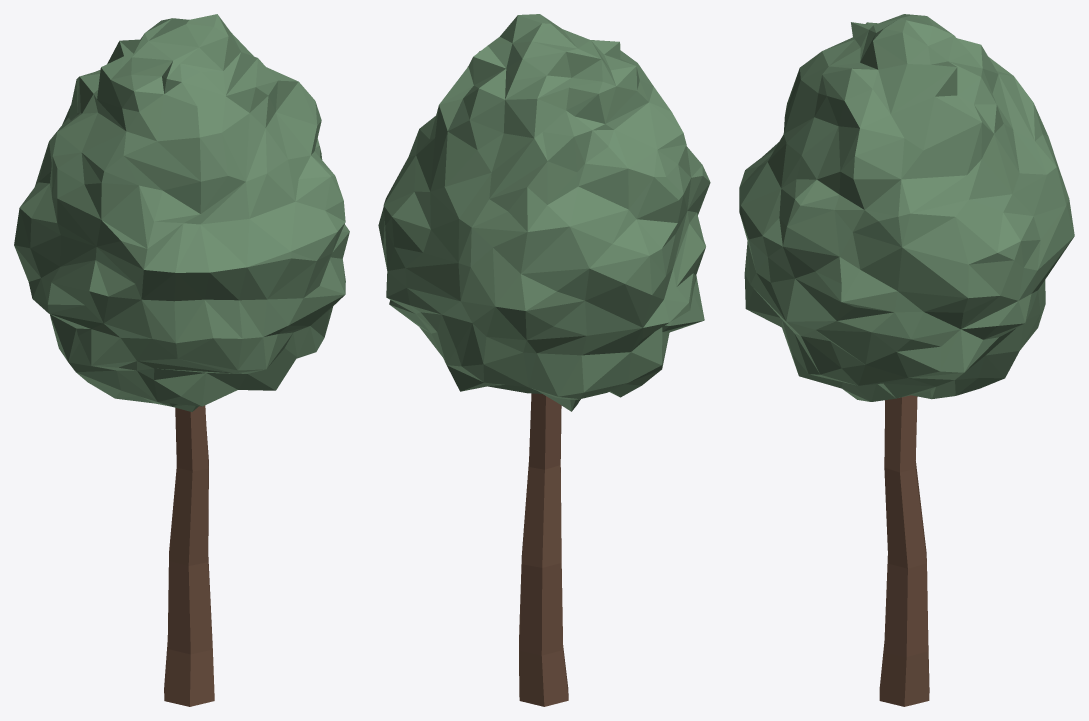
File: Fantasytree1.fbx
The picture shows the model from 3 angles, left to right: view 1: azimuth 30°, elevation 25°; view 2: azimuth 150°, elevation 25°; view 3: azimuth 270°, elevation 25°; orthographic projection.
Parts seen in each view (by area): view 1: pCube1, pCylinder1; view 2: pCube1, pCylinder1; view 3: pCube1, pCylinder1.
Part boxes in pixels (x1,y1,x2,y2): pCube1: (14,14,349,411); pCylinder1: (164,405,214,706); pCube1: (378,14,710,411); pCylinder1: (519,393,568,706); pCube1: (739,14,1074,401); pCylinder1: (879,395,929,706).
Bounding box in the file's own units: 11.07 × 25.7 × 11.57.
